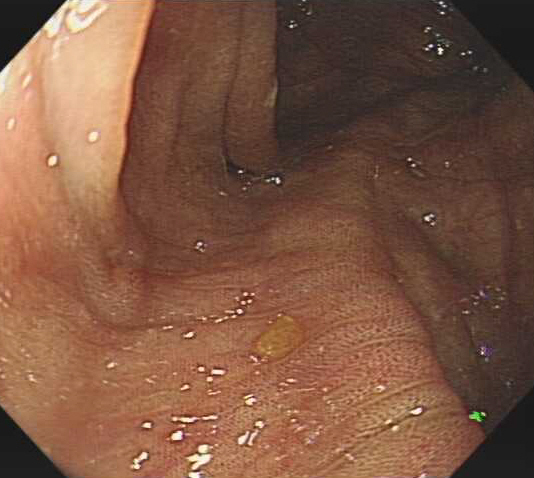adenoma: (251, 313, 306, 359)
